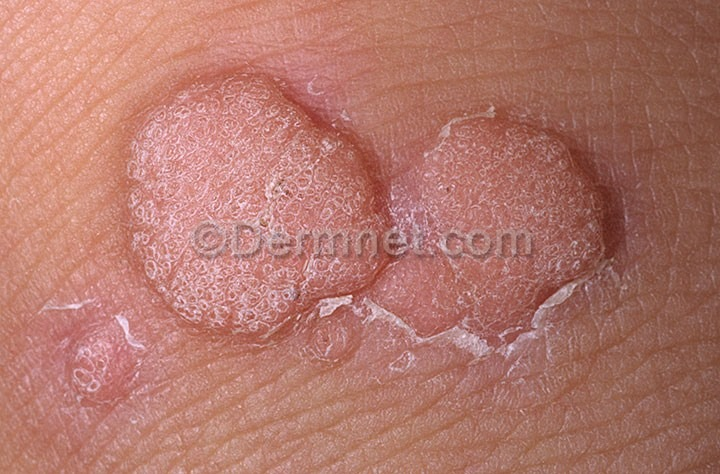Warts: (61, 319, 131, 401)
